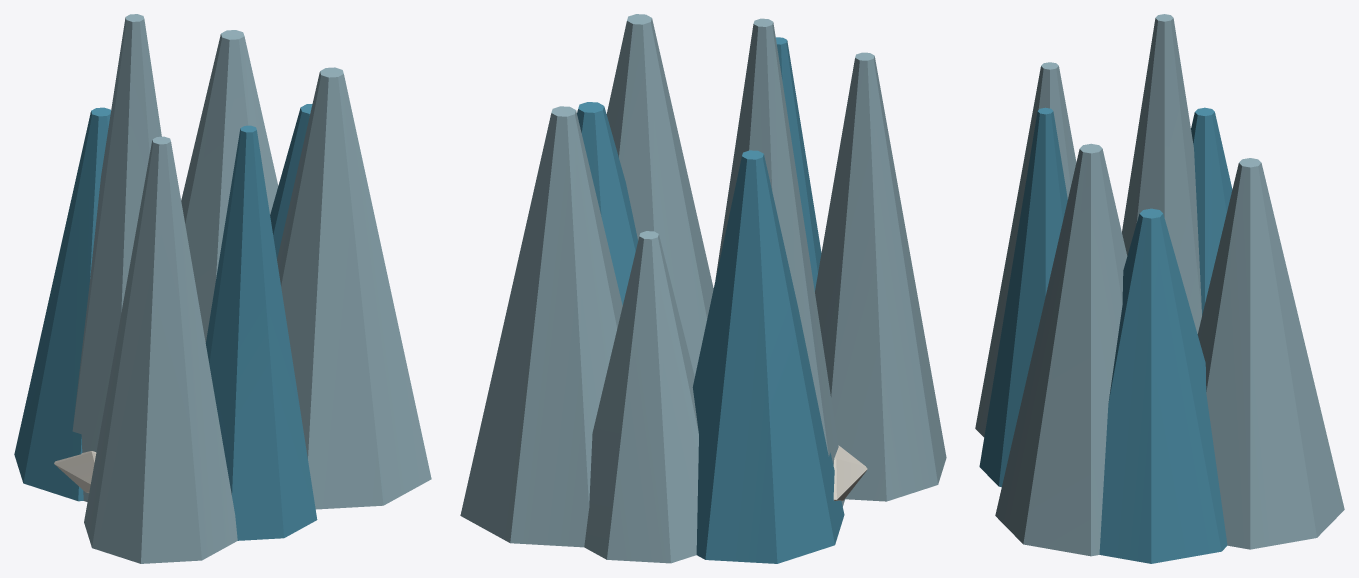
File: glacier_ice_spire_v1.glb
3 renders of one model, left to right at view 1: azimuth 30°, elevation 25°; view 2: azimuth 150°, elevation 25°; view 3: azimuth 270°, elevation 25°, orthographic. The views are drawn at different scales.
Parts seen in each view (by area): view 1: glacier_ice_spire_v1; view 2: glacier_ice_spire_v1; view 3: glacier_ice_spire_v1.
Boxes of the visible parts, x1,y1,x2,y2 form: glacier_ice_spire_v1: (14,14,431,563); glacier_ice_spire_v1: (460,14,946,563); glacier_ice_spire_v1: (975,14,1344,563).
Size of the model in its own units: 3.31 by 4.05 by 3.1.
